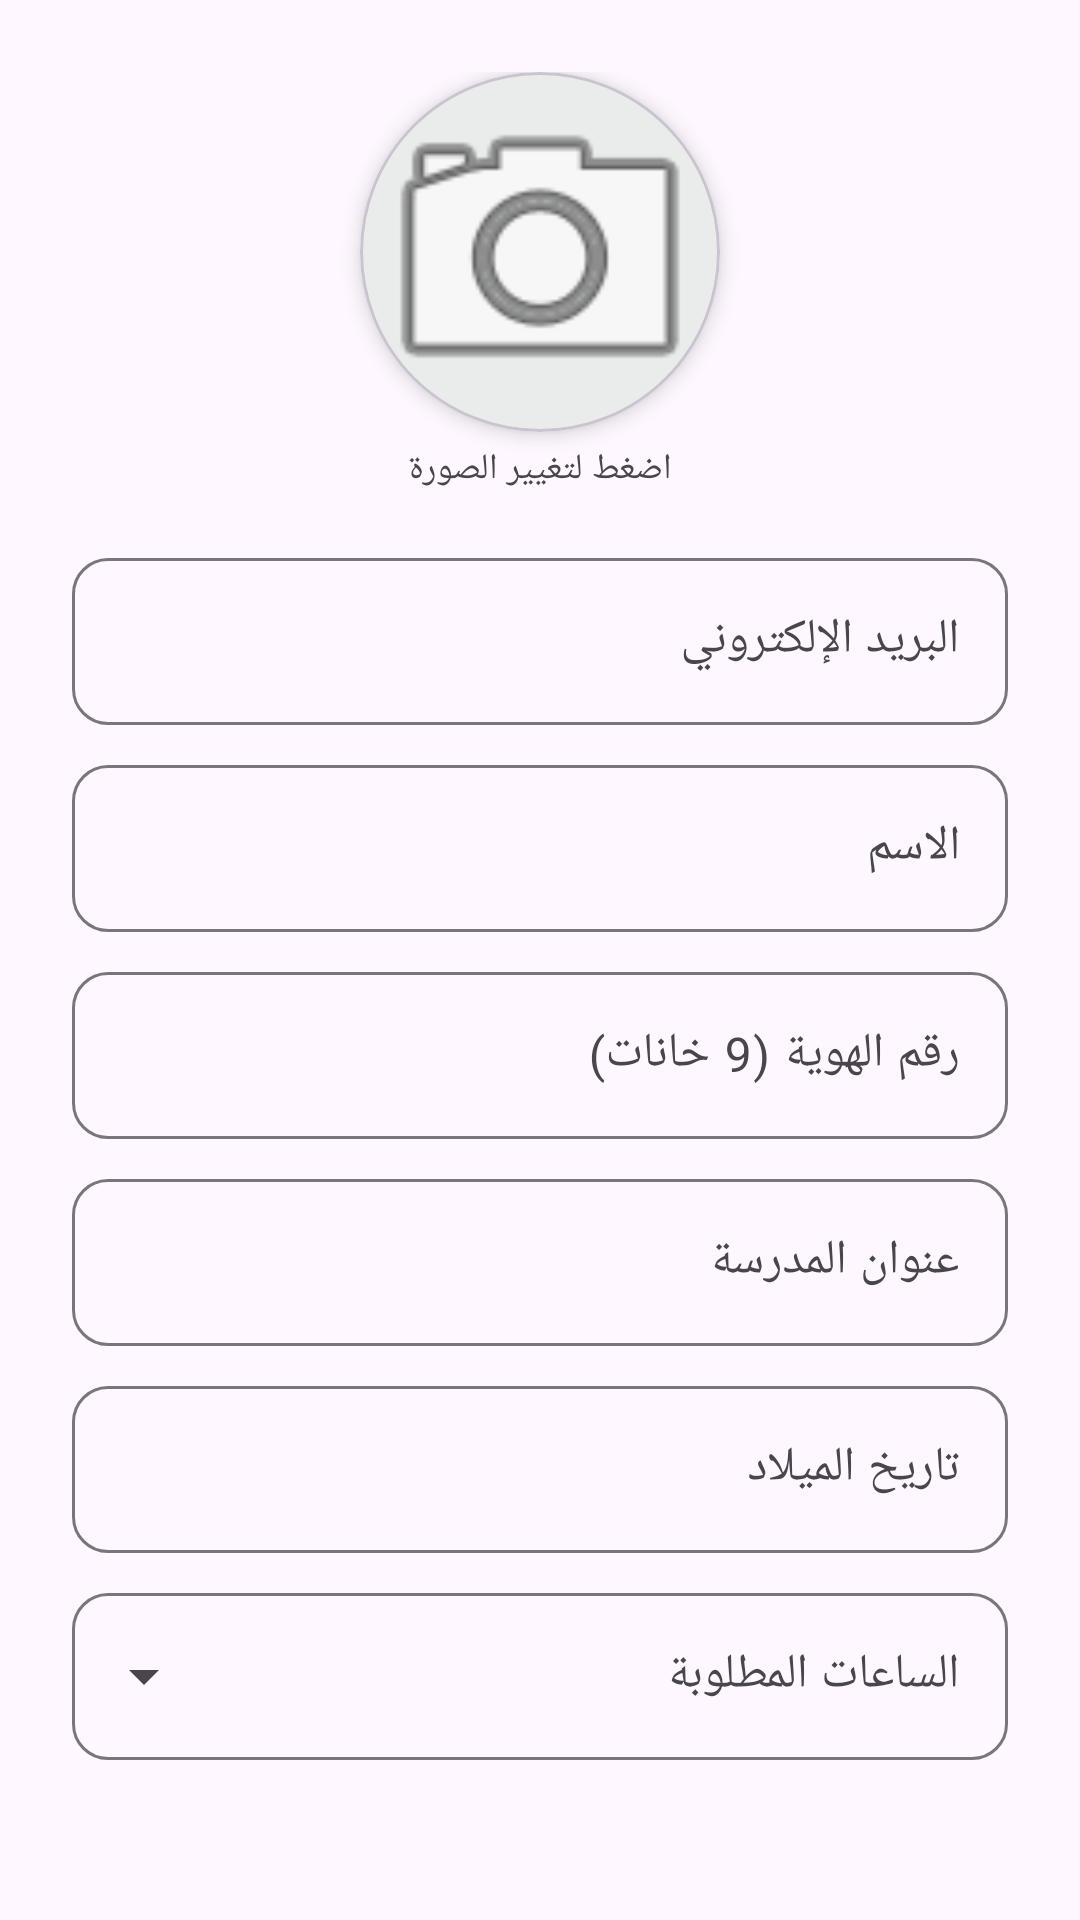

Icon click points for this 1080 x 1920 phone screenshot, format (x=x, y=y):
camera: (x=540, y=252)
